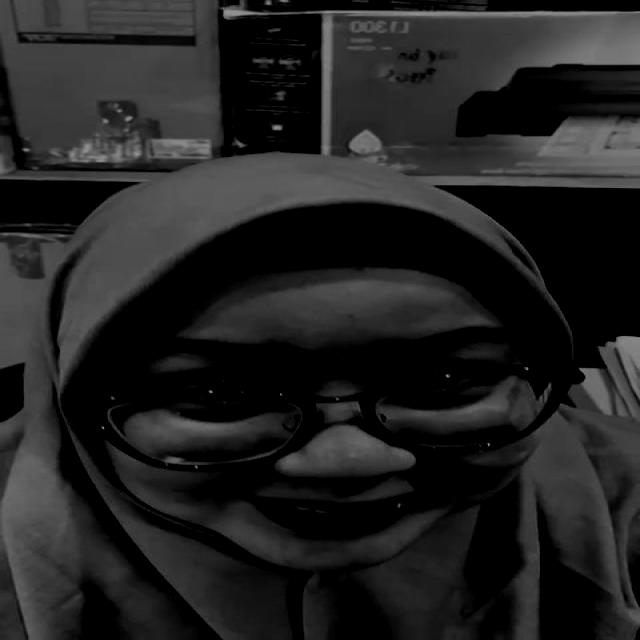real: (104, 218, 548, 572)
